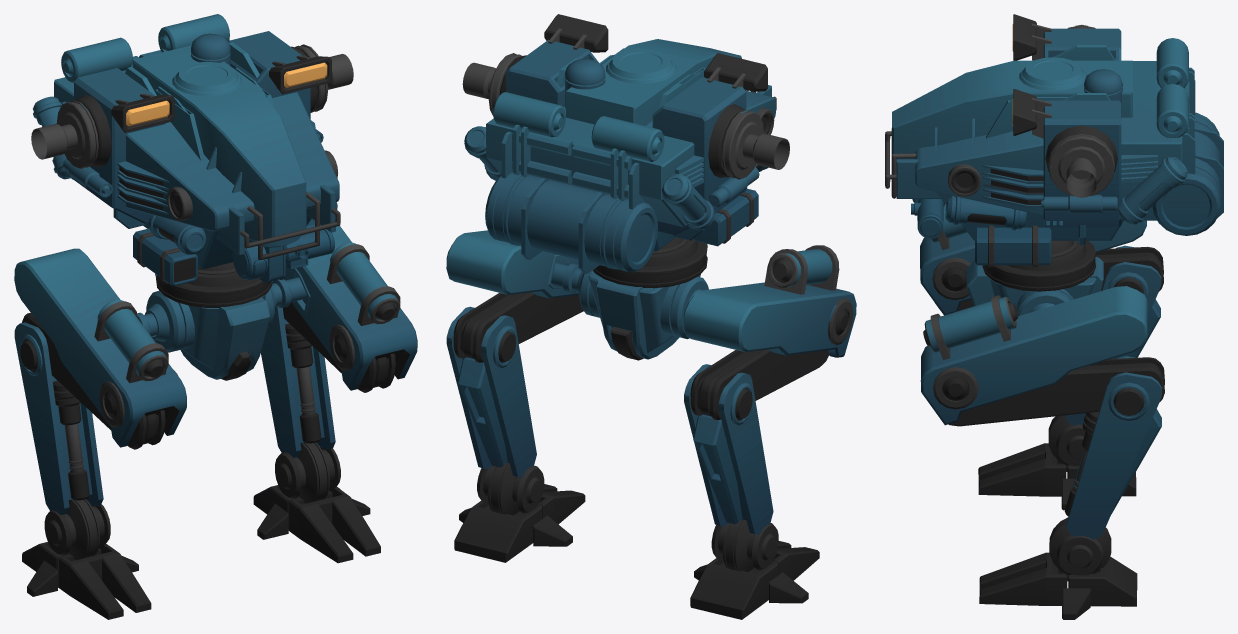
Rendered from mech.glb.
3 renders of one model, left to right at view 1: azimuth 30°, elevation 25°; view 2: azimuth 150°, elevation 25°; view 3: azimuth 270°, elevation 25°, orthographic. The views are drawn at different scales.
Visible parts, largest first — view 1: Battle_mech_03_torso_poly, Battle_mech_03_R_hips_poly, Mech, Battle_mech_03_L_hips_poly, Battle_mech_03_R_leg_poly, Battle_mech_03_R_foot_poly, Battle_mech_03_L_foot_poly, Battle_mech_03_L_leg_poly, Battle_mech_03_R_knee_poly, Battle_mech_03_L_knee_poly, Battle_mech_03_torso_weapon_poly; view 2: Battle_mech_03_torso_poly, Battle_mech_03_R_hips_poly, Mech, Battle_mech_03_L_leg_poly, Battle_mech_03_R_leg_poly, Battle_mech_03_L_foot_poly, Battle_mech_03_R_foot_poly, Battle_mech_03_L_hips_poly, Battle_mech_03_R_knee_poly, Battle_mech_03_L_knee_poly, Battle_mech_03_torso_weapon_poly; view 3: Battle_mech_03_torso_poly, Battle_mech_03_L_hips_poly, Battle_mech_03_L_leg_poly, Battle_mech_03_L_foot_poly, Mech, Battle_mech_03_L_knee_poly, Battle_mech_03_R_foot_poly, Battle_mech_03_R_hips_poly, Battle_mech_03_R_leg_poly, Battle_mech_03_R_knee_poly, Battle_mech_03_torso_weapon_poly.
Part boxes in pixels (left/top/right/bottom): Battle_mech_03_torso_poly: left=31, top=14, right=353, bottom=286; Battle_mech_03_R_hips_poly: left=14, top=248, right=186, bottom=447; Mech: left=137, top=268, right=306, bottom=380; Battle_mech_03_L_hips_poly: left=284, top=225, right=417, bottom=390; Battle_mech_03_R_leg_poly: left=14, top=322, right=103, bottom=514; Battle_mech_03_R_foot_poly: left=22, top=499, right=151, bottom=619; Battle_mech_03_L_foot_poly: left=253, top=442, right=380, bottom=563; Battle_mech_03_L_leg_poly: left=261, top=281, right=335, bottom=457; Battle_mech_03_R_knee_poly: left=22, top=313, right=165, bottom=449; Battle_mech_03_L_knee_poly: left=283, top=302, right=395, bottom=392; Battle_mech_03_torso_weapon_poly: left=191, top=33, right=230, bottom=65; Battle_mech_03_torso_poly: left=462, top=14, right=789, bottom=273; Battle_mech_03_R_hips_poly: left=683, top=245, right=856, bottom=357; Mech: left=551, top=238, right=708, bottom=360; Battle_mech_03_L_leg_poly: left=446, top=306, right=536, bottom=477; Battle_mech_03_R_leg_poly: left=684, top=364, right=773, bottom=534; Battle_mech_03_L_foot_poly: left=454, top=462, right=585, bottom=562; Battle_mech_03_R_foot_poly: left=690, top=519, right=819, bottom=619; Battle_mech_03_L_hips_poly: left=446, top=230, right=579, bottom=298; Battle_mech_03_R_knee_poly: left=690, top=349, right=828, bottom=419; Battle_mech_03_L_knee_poly: left=453, top=292, right=583, bottom=362; Battle_mech_03_torso_weapon_poly: left=565, top=59, right=605, bottom=109; Battle_mech_03_torso_poly: left=885, top=14, right=1223, bottom=267; Battle_mech_03_L_hips_poly: left=920, top=286, right=1147, bottom=425; Battle_mech_03_L_leg_poly: left=1064, top=356, right=1161, bottom=539; Battle_mech_03_L_foot_poly: left=979, top=517, right=1137, bottom=619; Mech: left=966, top=240, right=1103, bottom=315; Battle_mech_03_L_knee_poly: left=948, top=357, right=1164, bottom=426; Battle_mech_03_R_foot_poly: left=978, top=415, right=1136, bottom=510; Battle_mech_03_R_hips_poly: left=920, top=204, right=1146, bottom=315; Battle_mech_03_R_leg_poly: left=1065, top=245, right=1161, bottom=425; Battle_mech_03_R_knee_poly: left=935, top=246, right=1163, bottom=310; Battle_mech_03_torso_weapon_poly: left=1084, top=69, right=1122, bottom=118.
Size of what is drawn, in the model's own units: 4.72 by 6.6 by 4.22.
Materials: 1 (1 with a texture image).
